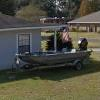Boat: (17, 45, 100, 76)
